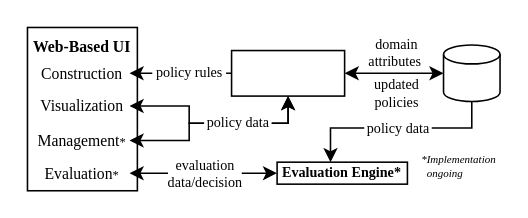
The diagram is 528 pixels wide and 218 high, and some of its shapes have lost their labels. Each missing label, with the centre of its shape:
"ADAPT Knowledge API" goes at [287,72].
"RDF Store" goes at [471,72].
